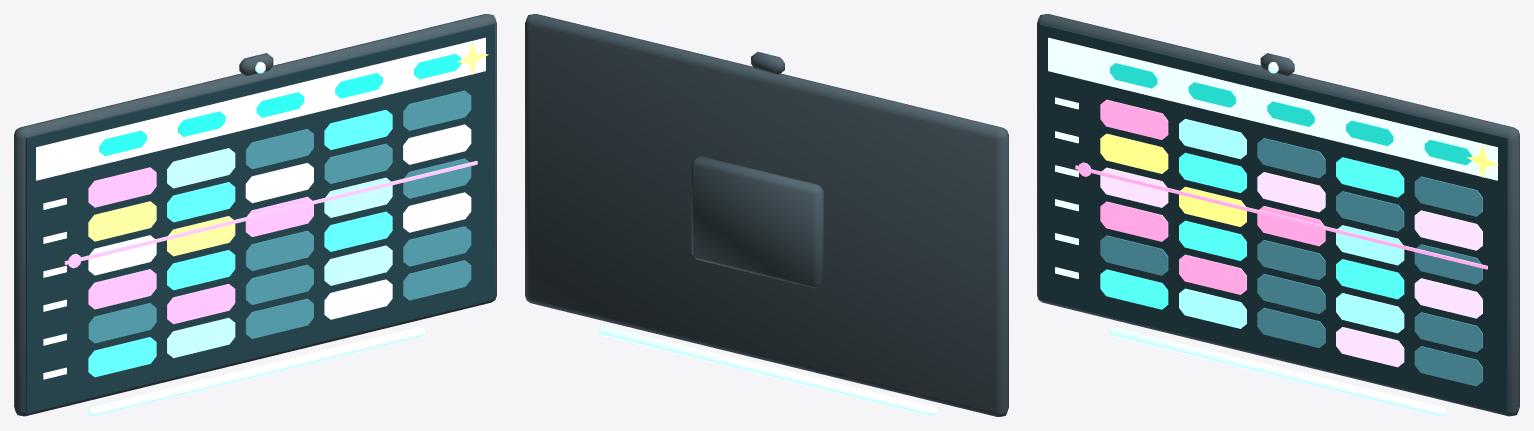
Rendered from ai_screen.glb.
3 renders of one model, left to right at view 1: azimuth 30°, elevation 25°; view 2: azimuth 150°, elevation 25°; view 3: azimuth 330°, elevation 25°, orthographic.
Parts seen in each view (by area): view 1: AiScreen; view 2: AiScreen; view 3: AiScreen.
Boxes of the visible parts, x1,y1,x2,y2 form: AiScreen: (14, 14, 496, 416); AiScreen: (525, 14, 1008, 416); AiScreen: (1037, 14, 1519, 416).
Size of the model in its own units: 1.5 by 0.9525 by 0.1162.
